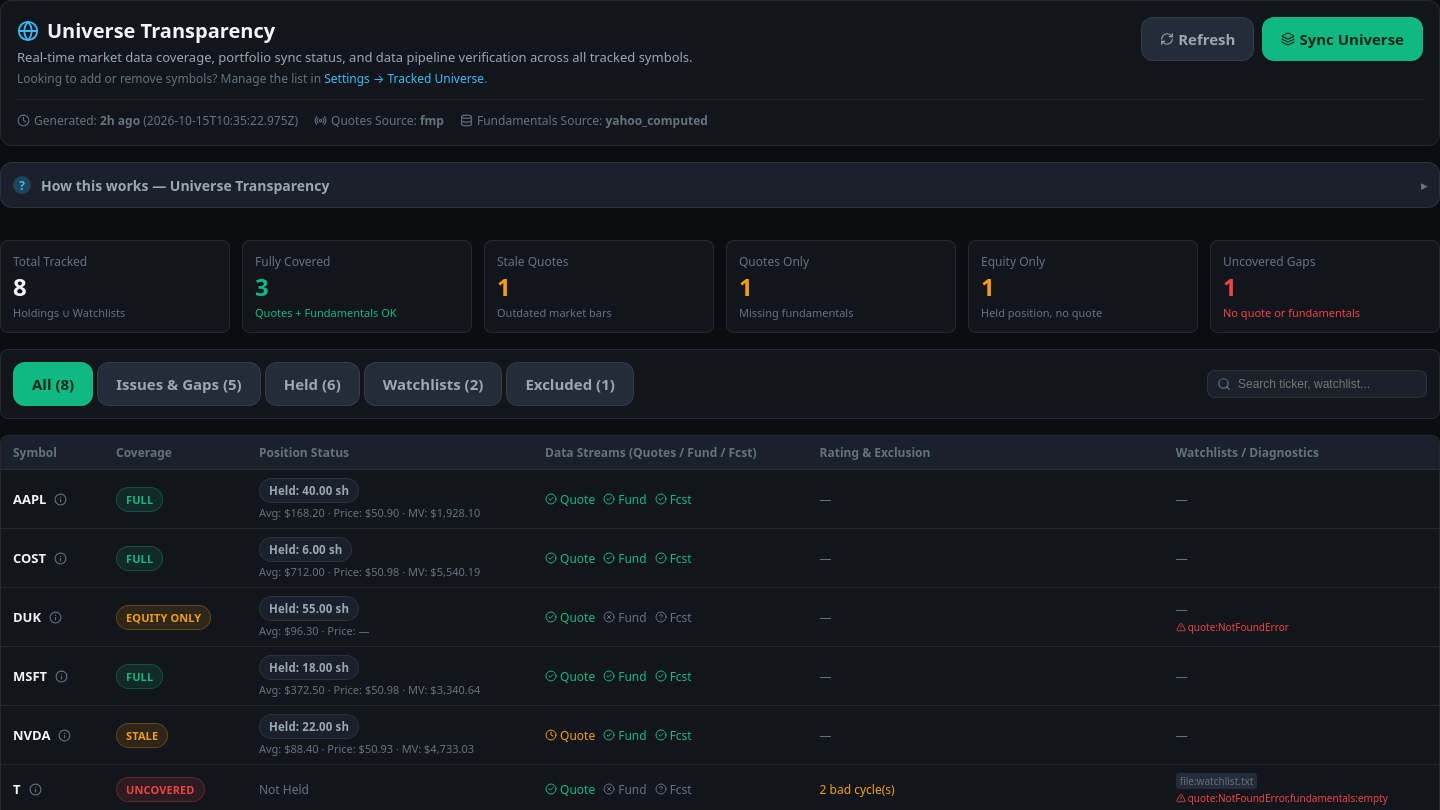
Test: UniverseTransparency screen › filters rows when typing in the search input
Expected: the row with test id "universe-row-AAPL" is shown, [1,470,1439,528]
Type "AAPL" into the field with test id "search-input" at (1317, 384), box [1207,370,1427,398]
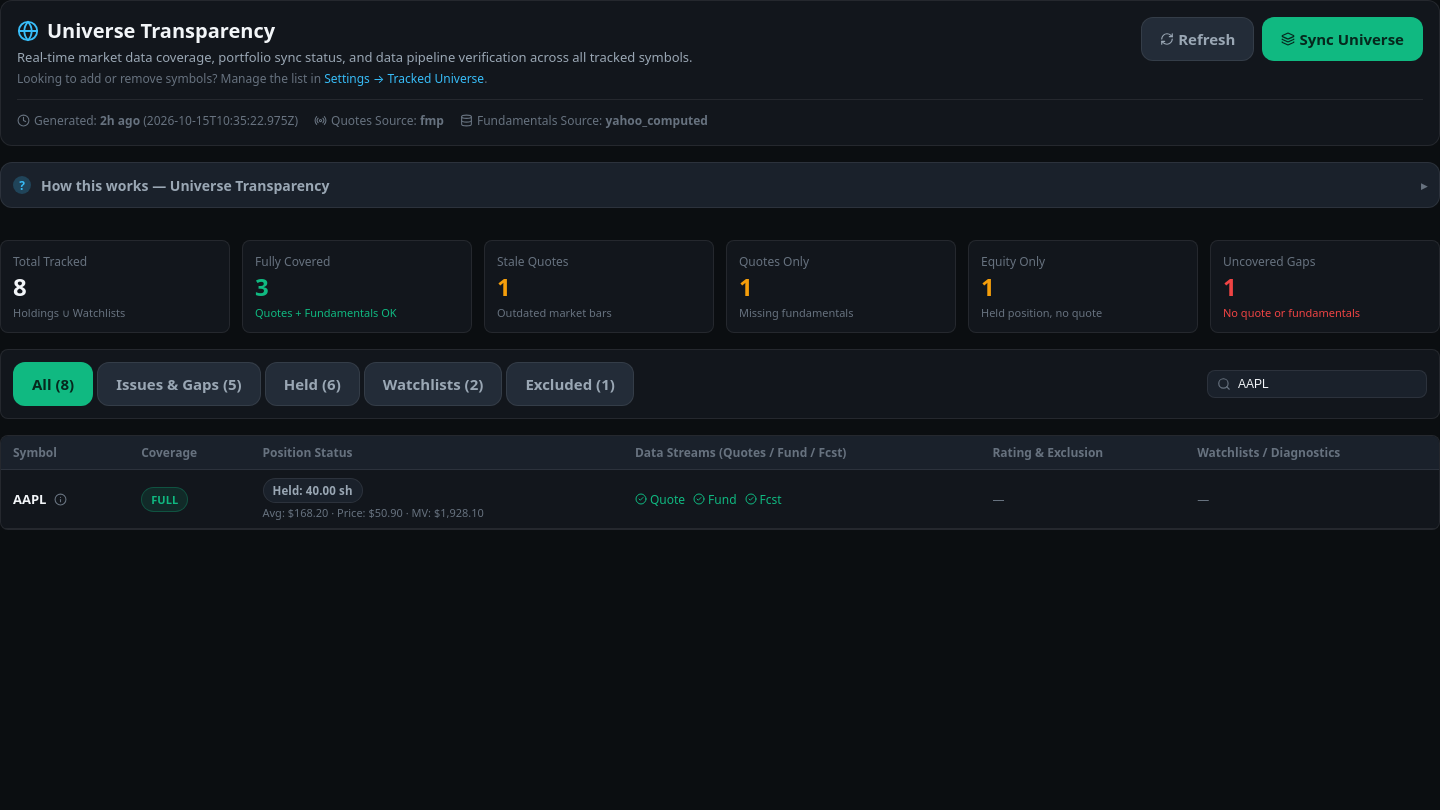
Expected: the row with test id "universe-row-AAPL" is shown, [1,470,1439,528]
Expected: the row with test id "universe-row-NVDA" is gone
// Clear search and type a non-existent ticker
Replace the text in the field with test id "search-input" with "NONEXISTENT" at (1317, 384), box [1207,370,1427,398]
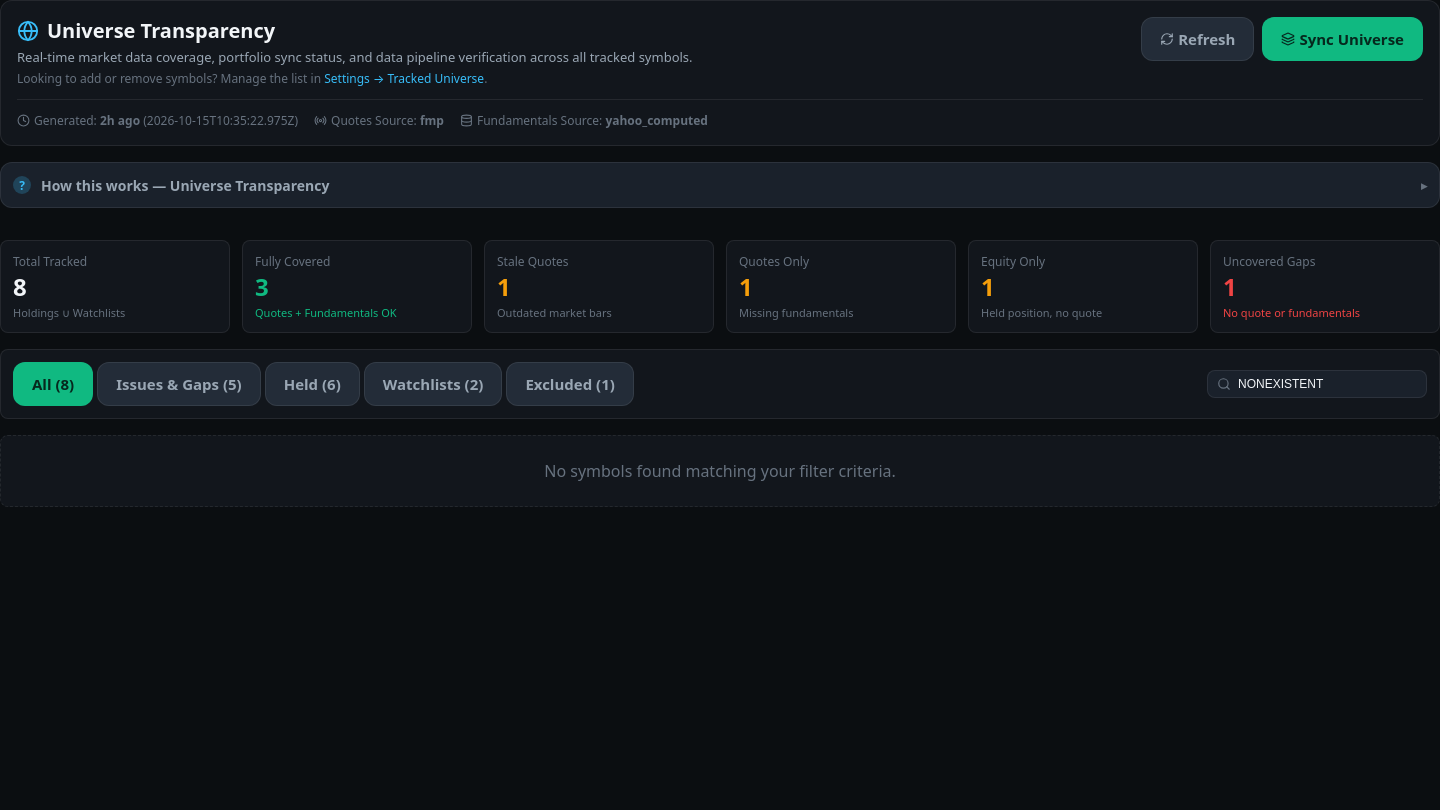
Expected: the text "No symbols found matching your filter criteria." is shown, [0,435,1439,507]
Expected: the row with test id "universe-row-AAPL" is gone
